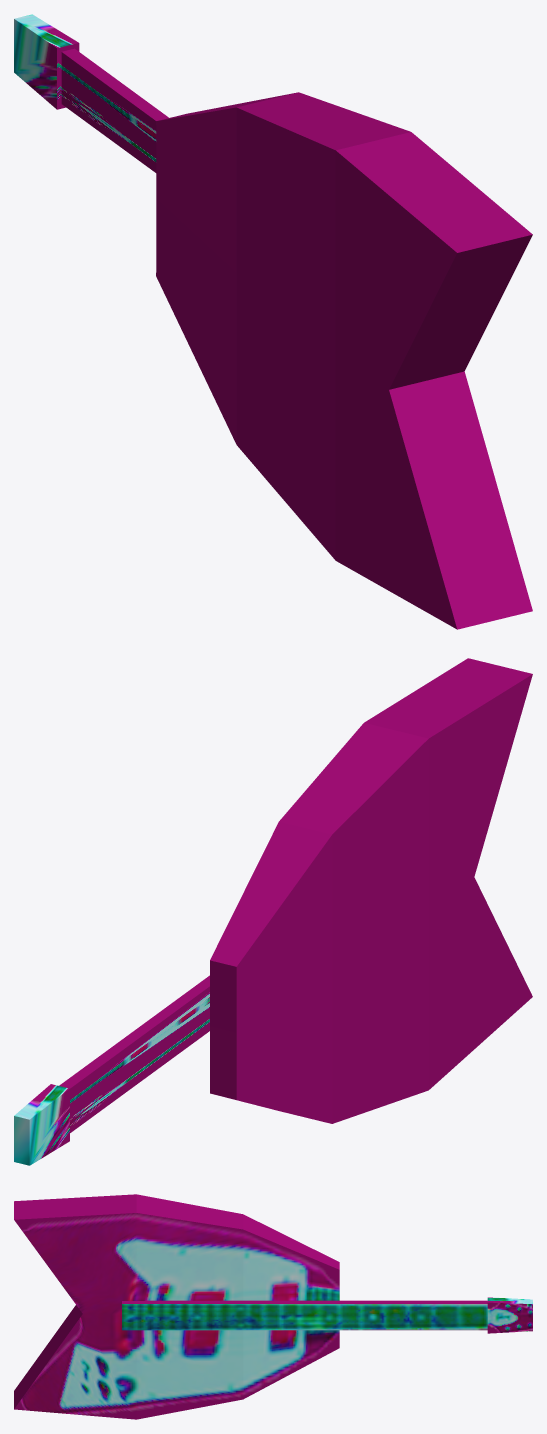
Rendered from guitar.fbx.
3 views of the same model, one above another, from view 1: azimuth 30°, elevation 25°; view 2: azimuth 150°, elevation 25°; view 3: azimuth 270°, elevation 25° (orthographic). The views are drawn at different scales.
Visible parts, largest first — view 1: Cube, Plane; view 2: Cube, Plane; view 3: Cube, Plane.
Boxes of the visible parts, x1,y1,x2,y2 form: Cube: (156, 92, 532, 629); Plane: (14, 14, 168, 172); Cube: (210, 658, 532, 1123); Plane: (14, 975, 209, 1165); Cube: (14, 1194, 339, 1419); Plane: (122, 1297, 532, 1333).
Size of the model in its own units: 38.69 by 165 by 375.
Materials: 1 (1 with a texture image).
